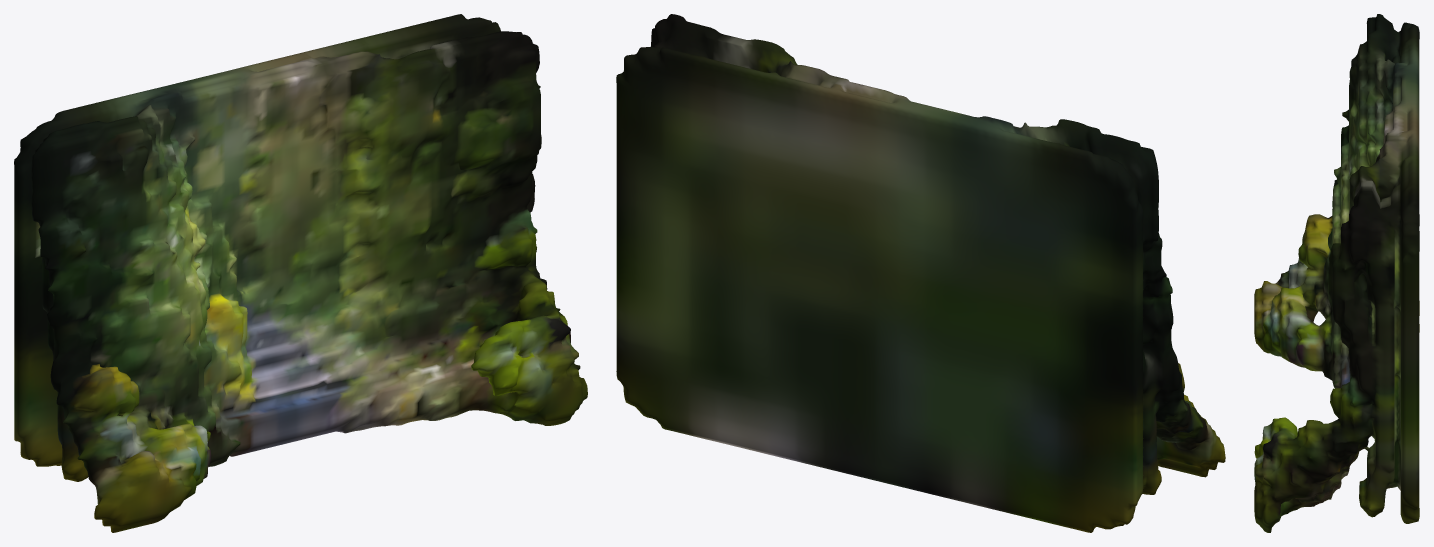
File: photo-forest.glb
The picture shows the model from 3 angles, left to right: view 1: azimuth 30°, elevation 25°; view 2: azimuth 150°, elevation 25°; view 3: azimuth 270°, elevation 25°; orthographic projection. The views are drawn at different scales.
Parts seen in each view (by area): view 1: photo-forest; view 2: photo-forest; view 3: photo-forest.
Part boxes in pixels (<box>): photo-forest: <box>14,14,587,532</box>; photo-forest: <box>616,14,1225,532</box>; photo-forest: <box>1254,14,1419,532</box>.
Bounding box in the file's own units: 0.1 × 0.0695 × 0.0324.
